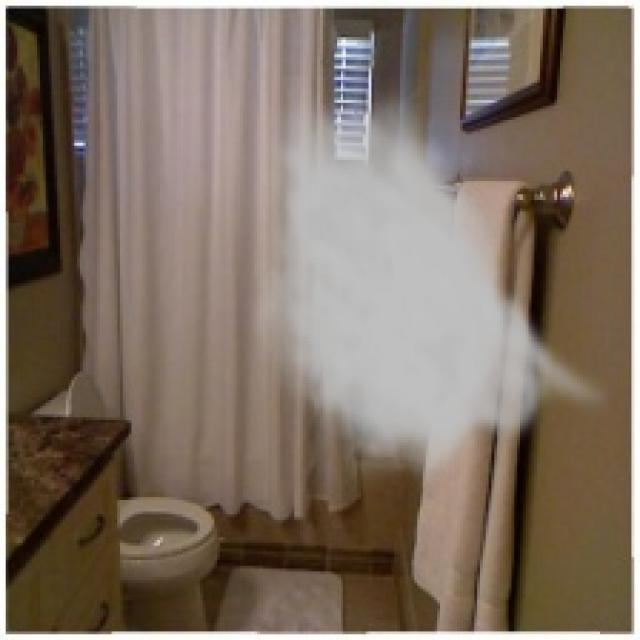Smoke: (252, 71, 614, 492)
